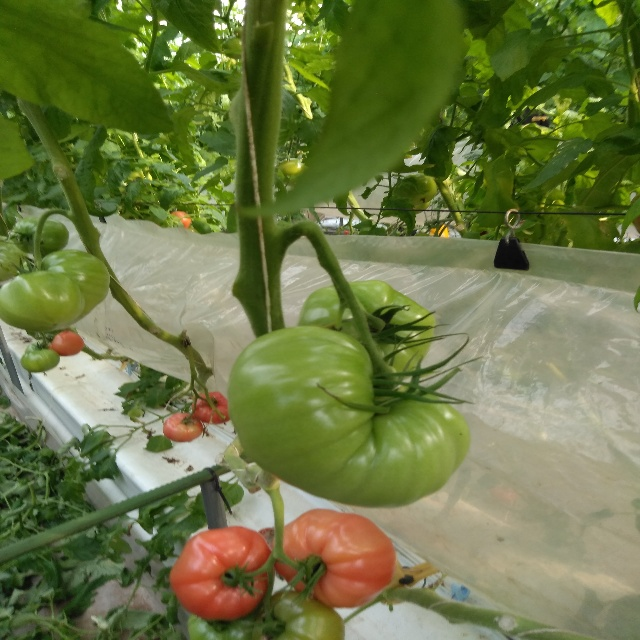b_fully_ripened: (169, 526, 274, 622), (191, 392, 232, 425)
b_green: (228, 325, 470, 509), (295, 280, 438, 380), (30, 248, 109, 324), (1, 271, 85, 332), (250, 590, 346, 640), (187, 600, 263, 640), (11, 216, 70, 255), (20, 347, 60, 373)
b_half_ripened: (272, 508, 396, 607), (162, 412, 204, 443), (48, 330, 85, 356)
